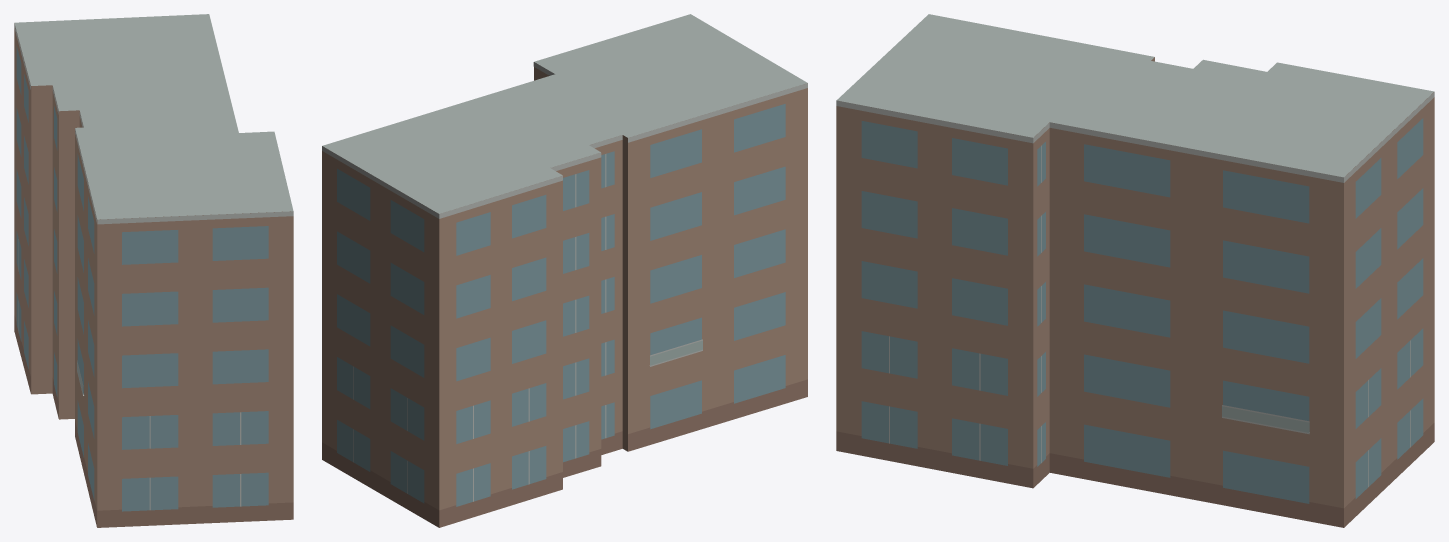
Rendered from survey-upis-32961023.glb.
3 views of the same model, side by side, from view 1: azimuth 30°, elevation 25°; view 2: azimuth 150°, elevation 25°; view 3: azimuth 270°, elevation 25° (orthographic). The views are drawn at different scales.
Visible parts, largest first — view 1: survey-upis-32961023.tmp; view 2: survey-upis-32961023.tmp; view 3: survey-upis-32961023.tmp.
Part boxes in pixels (bbox=[...]): survey-upis-32961023.tmp: bbox=[14, 14, 293, 527]; survey-upis-32961023.tmp: bbox=[322, 14, 807, 527]; survey-upis-32961023.tmp: bbox=[836, 14, 1434, 527].
Bounding box in the file's own units: 15.41 × 15.4 × 23.83.
